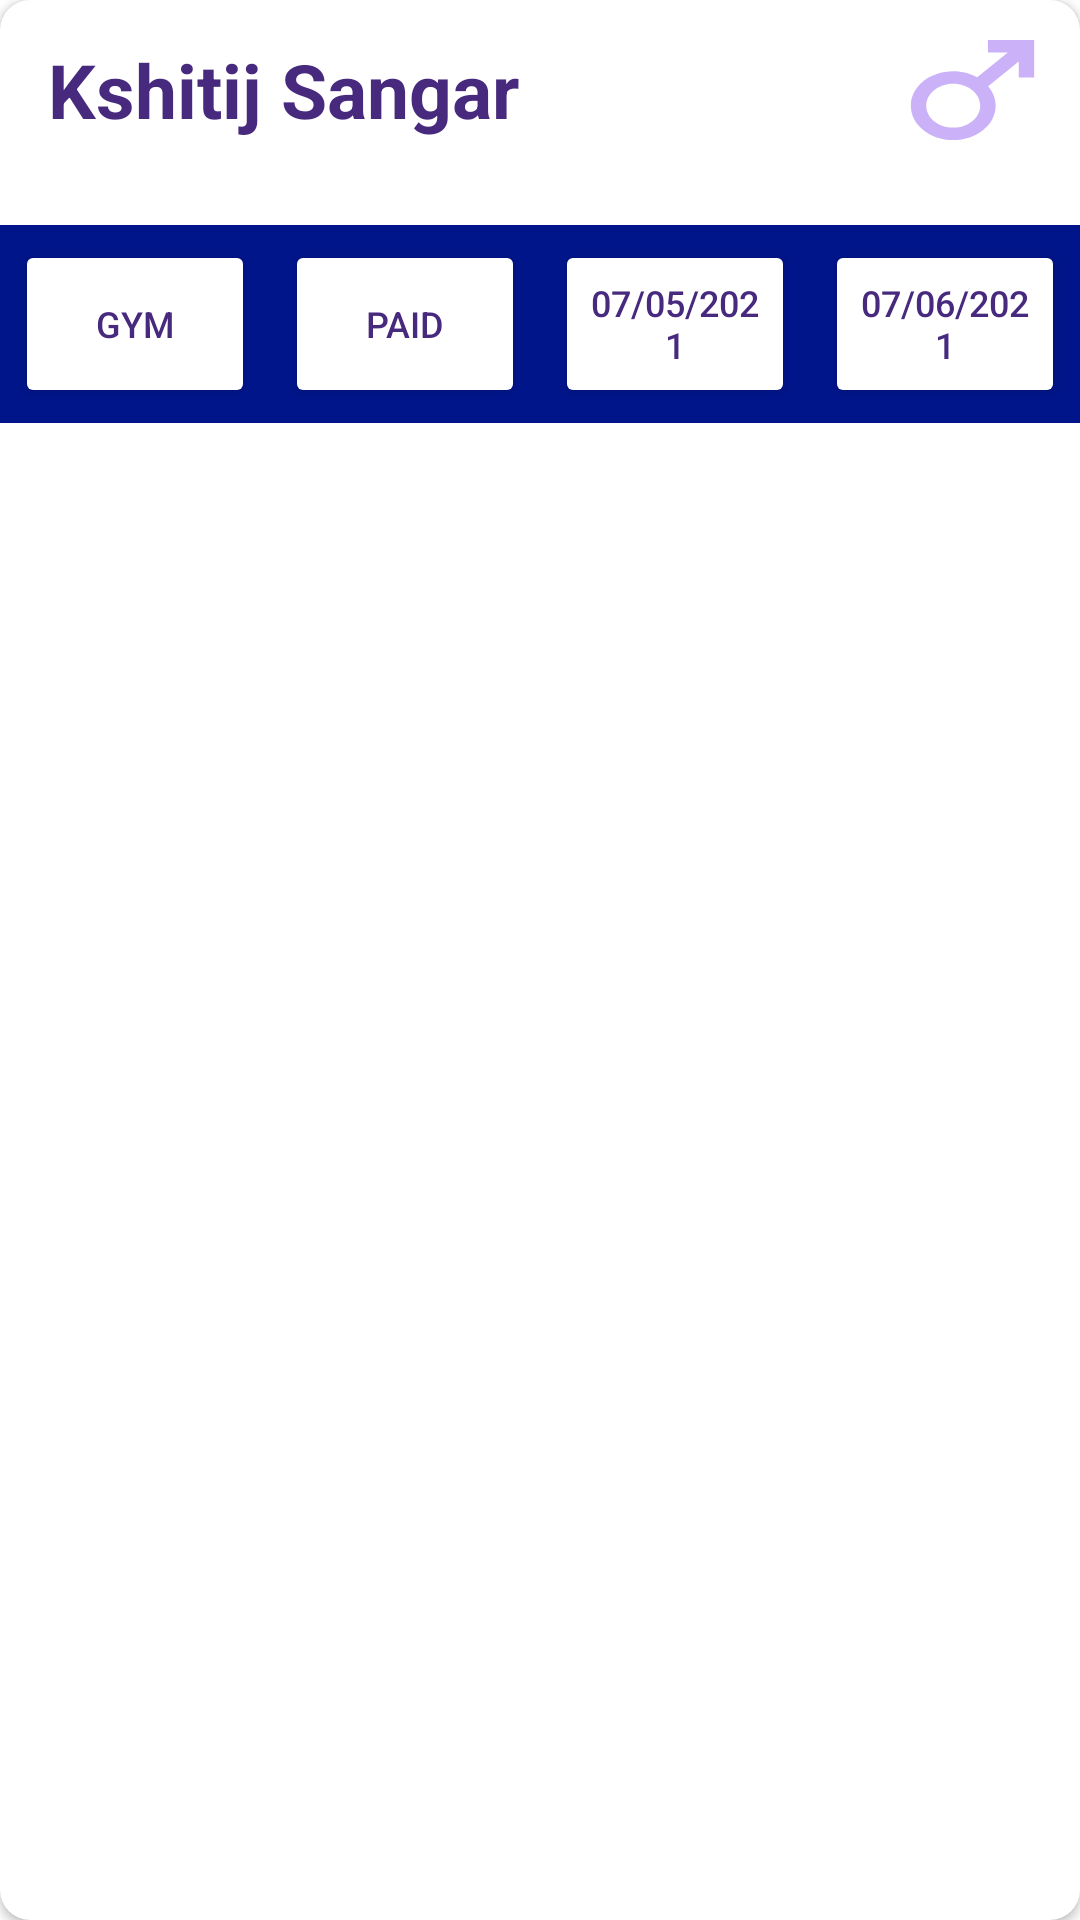

Point at icon controls on the screen. Image size 1080px×1920px, points as (x=x, y=y).
male: (x=972, y=90)
